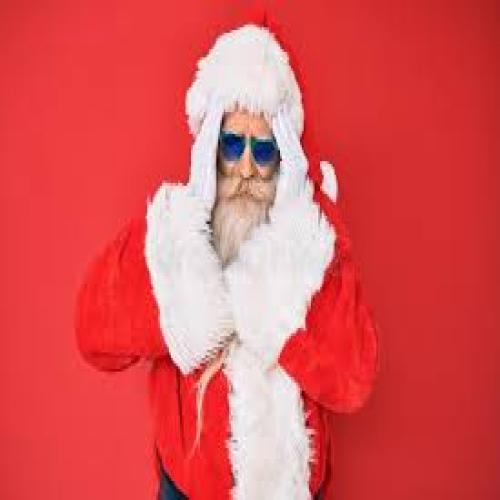Santa: (73, 19, 380, 497)
